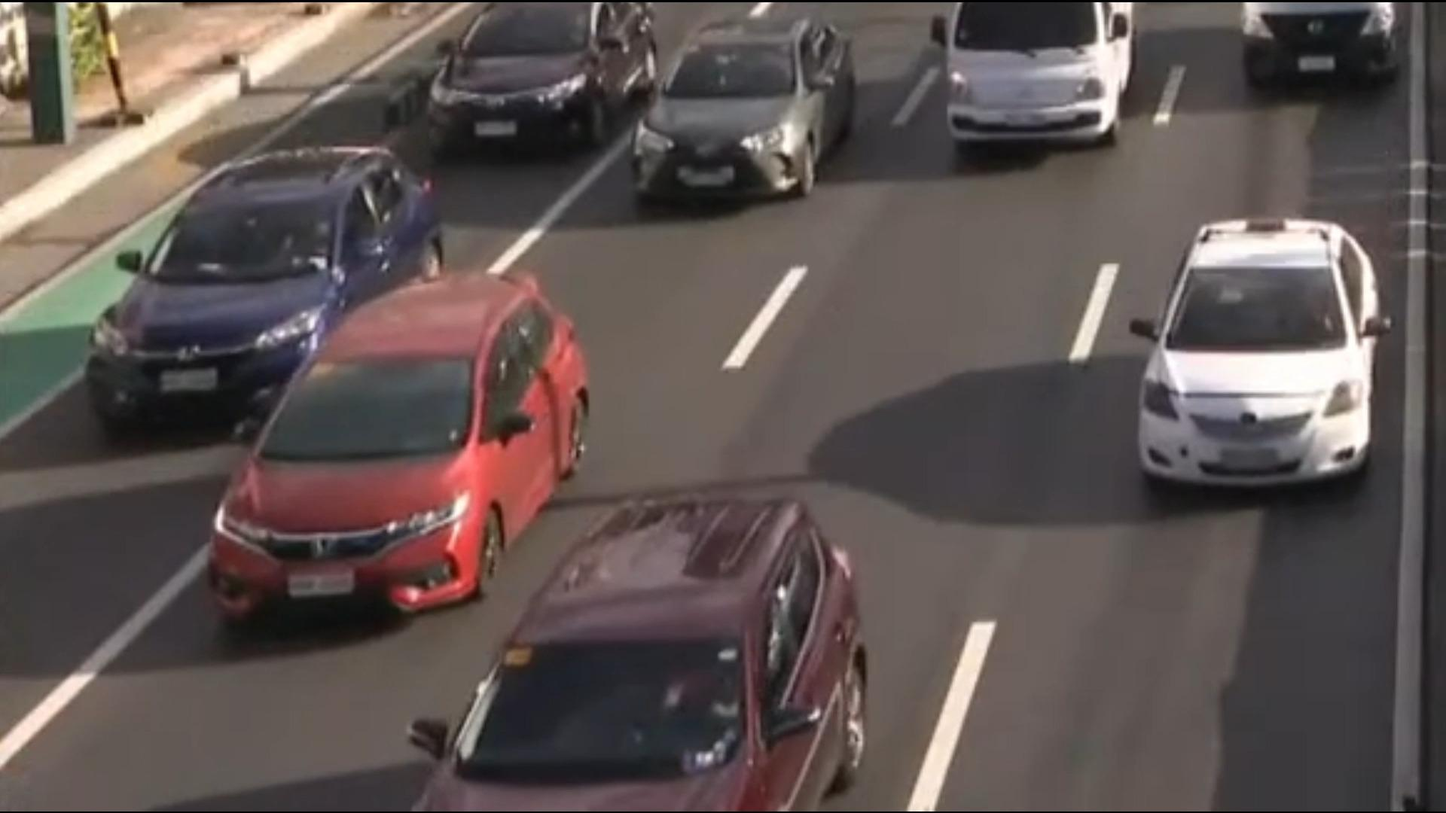SUV: (362, 461, 955, 813), (195, 253, 635, 667), (59, 121, 460, 480)
Sedan: (1087, 194, 1424, 512), (617, 2, 885, 226), (411, 0, 673, 163)
Truck: (927, 0, 1143, 153)
